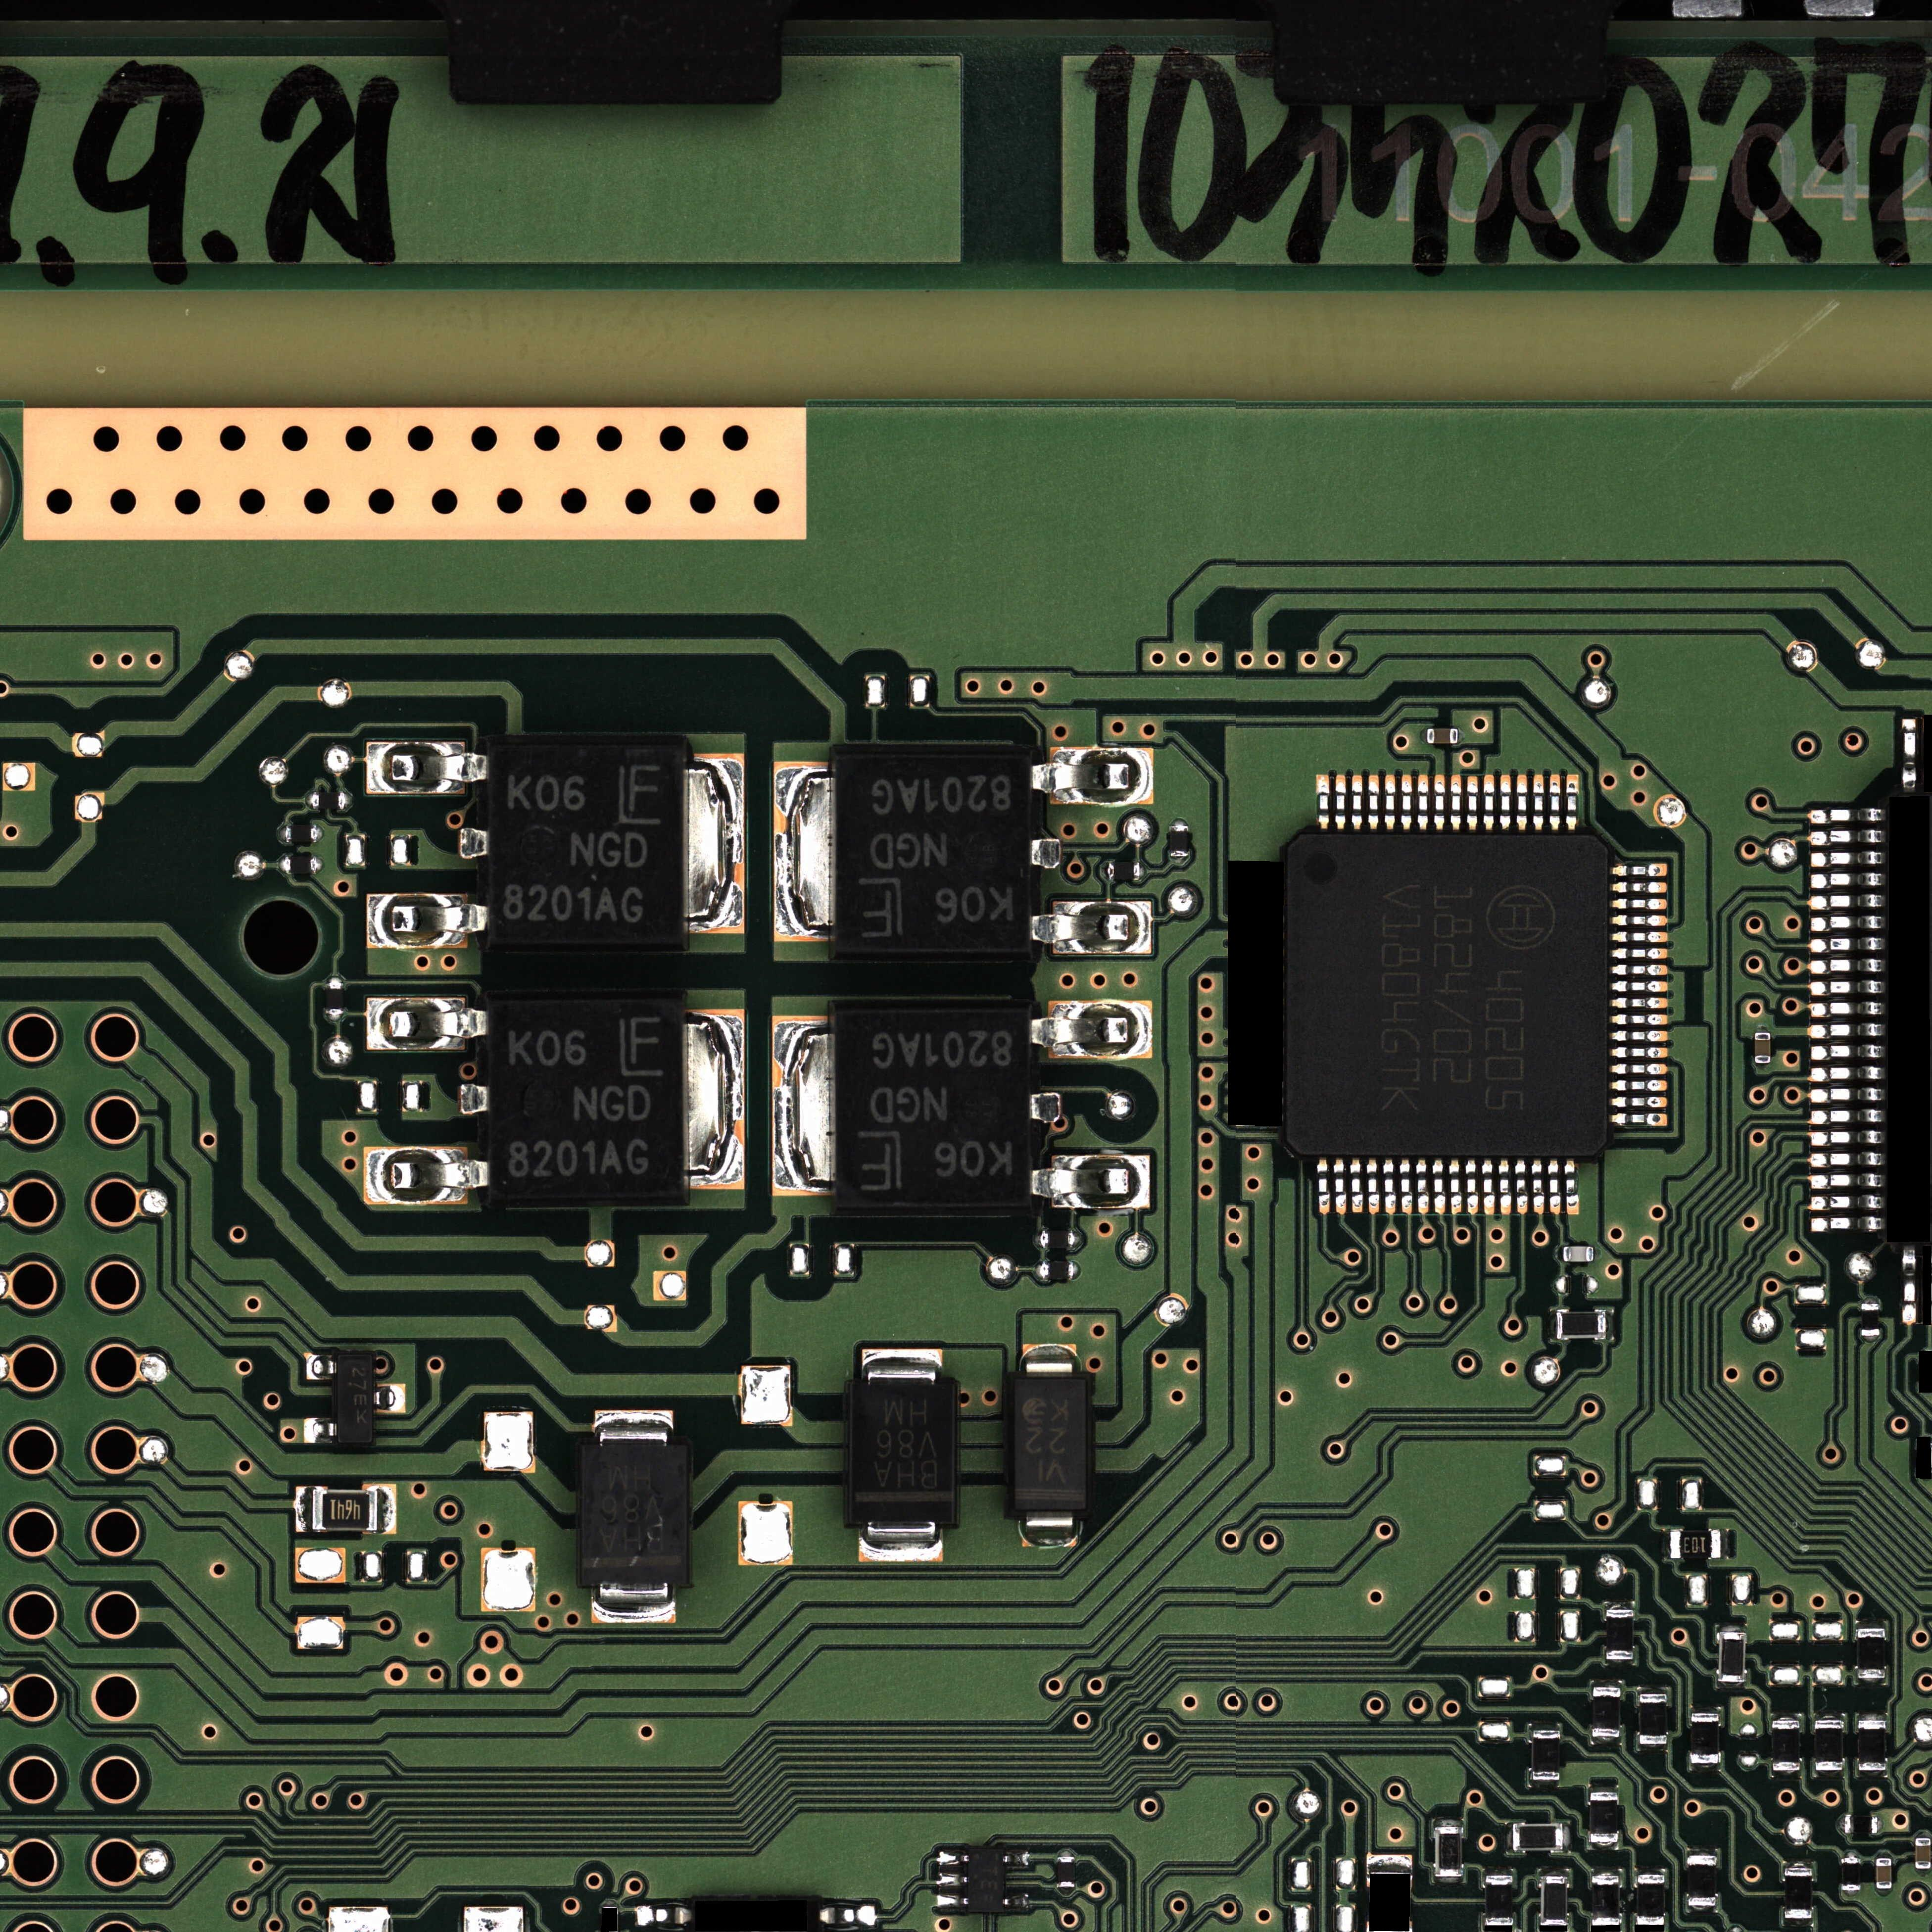Package: (1288, 835, 1608, 1157), (835, 1012, 1031, 1207), (490, 1000, 683, 1198), (837, 757, 1028, 952), (492, 747, 681, 943), (849, 1385, 955, 1522), (582, 1447, 686, 1583), (1014, 1380, 1086, 1511), (338, 1355, 372, 1442), (311, 1490, 377, 1530), (970, 1851, 1003, 1911), (1858, 1720, 1886, 1771), (1815, 1720, 1844, 1771), (1670, 1530, 1721, 1559), (1691, 1714, 1720, 1764), (1592, 1688, 1621, 1737), (1532, 1730, 1560, 1780), (1688, 1856, 1716, 1905), (1773, 1720, 1799, 1771), (1858, 1628, 1884, 1679), (1591, 1792, 1617, 1842), (1557, 1313, 1606, 1339), (1606, 1610, 1633, 1660), (1720, 1633, 1746, 1683), (1435, 1828, 1461, 1877), (1640, 1695, 1667, 1744), (1513, 1824, 1562, 1851), (1785, 1868, 1812, 1918), (1541, 1875, 1568, 1925), (1592, 1875, 1619, 1925), (1486, 1877, 1513, 1925), (1638, 1875, 1663, 1925), (1040, 1231, 1074, 1249), (1169, 826, 1189, 856), (313, 793, 345, 810), (285, 856, 317, 874), (1108, 863, 1139, 881), (1042, 1261, 1074, 1279), (1056, 1856, 1074, 1888), (1842, 1858, 1859, 1890), (1861, 1304, 1879, 1336), (1845, 1815, 1877, 1833), (285, 826, 317, 842), (1755, 1033, 1771, 1063), (1875, 1858, 1891, 1888), (1428, 729, 1458, 743), (1564, 1247, 1594, 1261), (1916, 1838, 1930, 1868)
Solder: (773, 763, 837, 941), (681, 754, 745, 932), (771, 1017, 835, 1194), (683, 1010, 747, 1187), (363, 1146, 488, 1205), (1028, 747, 1154, 805), (1031, 1000, 1152, 1060), (366, 892, 490, 948), (366, 740, 490, 794), (366, 996, 488, 1051), (1030, 901, 1152, 955), (1031, 1154, 1150, 1208), (591, 1583, 676, 1624), (858, 1522, 943, 1562), (591, 1410, 674, 1447), (862, 1348, 943, 1385), (1021, 1511, 1077, 1548), (1023, 1343, 1077, 1380), (1672, 2, 1743, 19), (635, 1905, 692, 1927), (1810, 1152, 1882, 1168), (1810, 1088, 1882, 1104), (1808, 980, 1881, 996), (1810, 809, 1882, 824), (1902, 1246, 1916, 1325), (819, 1905, 876, 1925), (1812, 1217, 1884, 1231), (1810, 1196, 1882, 1210), (1810, 1175, 1882, 1189), (1810, 1067, 1882, 1081), (1810, 1109, 1882, 1123), (1810, 1131, 1882, 1145), (1810, 1046, 1882, 1060), (1810, 1003, 1882, 1017), (1808, 959, 1881, 973), (1808, 938, 1881, 952), (1810, 916, 1882, 931), (1810, 853, 1882, 867), (1810, 832, 1882, 846), (1810, 874, 1882, 888), (1902, 718, 1916, 791), (372, 1384, 405, 1414), (1810, 895, 1881, 909), (1810, 1024, 1881, 1039), (458, 828, 490, 858), (1030, 839, 1062, 869), (1030, 1092, 1062, 1122), (460, 1083, 488, 1115), (304, 1417, 338, 1444), (379, 1484, 396, 1534), (1564, 1159, 1580, 1214), (1612, 929, 1668, 943), (1612, 980, 1668, 994), (306, 1355, 338, 1380), (1368, 1854, 1412, 1872), (1612, 1113, 1667, 1127), (1612, 1062, 1667, 1076), (1514, 775, 1529, 830), (1499, 775, 1513, 830), (1447, 775, 1461, 830), (1348, 775, 1362, 830), (1398, 775, 1412, 830), (1332, 775, 1346, 830), (1431, 775, 1445, 830), (295, 1486, 311, 1532), (1610, 1097, 1667, 1109), (1612, 863, 1668, 876), (1612, 881, 1668, 893), (1612, 897, 1668, 909), (1612, 915, 1668, 927), (1612, 947, 1668, 959), (1612, 964, 1668, 977), (1334, 1159, 1346, 1214), (1350, 1159, 1362, 1214), (1366, 1159, 1378, 1214), (1433, 1159, 1445, 1214), (1415, 1159, 1428, 1214), (1399, 1159, 1412, 1214), (1499, 1161, 1511, 1215), (1514, 1159, 1527, 1214), (1532, 1159, 1545, 1214), (1548, 1159, 1560, 1214), (1449, 1159, 1461, 1214), (1612, 1079, 1667, 1092), (1612, 996, 1667, 1008), (1612, 1014, 1667, 1026), (1612, 1030, 1667, 1042), (1612, 1047, 1667, 1060), (1566, 775, 1578, 830), (1550, 775, 1562, 830), (1532, 775, 1545, 830), (1483, 775, 1495, 830), (1465, 775, 1477, 830), (1366, 775, 1378, 830), (1382, 775, 1394, 830), (1316, 775, 1329, 830), (1415, 775, 1428, 830), (1318, 1159, 1329, 1214), (1384, 1159, 1394, 1214), (1483, 1159, 1493, 1214), (1467, 1159, 1477, 1214), (1003, 1895, 1030, 1909), (1003, 1852, 1030, 1867), (938, 1895, 968, 1907), (938, 1852, 968, 1865), (938, 1874, 968, 1886), (1635, 1867, 1668, 1875), (1548, 1309, 1557, 1341), (1606, 1309, 1615, 1339), (1716, 1624, 1746, 1633), (1661, 1530, 1670, 1559), (1484, 1867, 1513, 1875), (1714, 1683, 1748, 1690), (1433, 1877, 1463, 1884), (1433, 1819, 1463, 1826), (1721, 1529, 1729, 1559), (1856, 1679, 1886, 1686), (1856, 1621, 1886, 1628), (1530, 1780, 1560, 1787), (1589, 1842, 1619, 1849), (1605, 1603, 1635, 1610), (1562, 1822, 1569, 1852), (1506, 1822, 1513, 1852), (1691, 1707, 1721, 1714), (1589, 1785, 1619, 1792), (1539, 1868, 1569, 1875), (1638, 1686, 1667, 1693), (1688, 1905, 1716, 1913), (1858, 1713, 1886, 1720), (1691, 1764, 1720, 1771), (1592, 1737, 1621, 1744), (1783, 1918, 1812, 1925), (1688, 1849, 1716, 1856), (1592, 1868, 1617, 1875), (1056, 1888, 1076, 1897), (1813, 1714, 1845, 1720), (1771, 1714, 1801, 1720), (1783, 1863, 1813, 1868), (1530, 1723, 1560, 1729), (1605, 1660, 1635, 1665), (1771, 1771, 1801, 1776), (1914, 1868, 1932, 1877), (1592, 1681, 1621, 1686), (1638, 1744, 1667, 1750), (1858, 1771, 1886, 1776), (1815, 1771, 1844, 1776), (602, 1898, 617, 1907), (1169, 856, 1189, 863), (1169, 819, 1189, 826), (1861, 1336, 1881, 1343), (1861, 1297, 1881, 1304), (317, 824, 324, 842), (1074, 1261, 1081, 1279), (1914, 1831, 1932, 1838), (306, 793, 313, 809), (317, 858, 324, 874), (280, 826, 287, 842), (1139, 863, 1146, 879), (1102, 863, 1109, 879), (1035, 1263, 1042, 1279), (1074, 1231, 1081, 1247), (1035, 1231, 1042, 1247), (1058, 1849, 1074, 1856), (1594, 1246, 1601, 1261), (1557, 1246, 1564, 1261), (1755, 1063, 1771, 1070), (1755, 1026, 1771, 1033), (1421, 729, 1428, 743), (1458, 729, 1465, 743), (1838, 1815, 1844, 1833), (280, 856, 285, 872), (345, 793, 350, 809), (1844, 1890, 1859, 1895), (1877, 1817, 1882, 1833), (1877, 1890, 1891, 1895), (1844, 1852, 1858, 1858), (1877, 1852, 1891, 1858)
